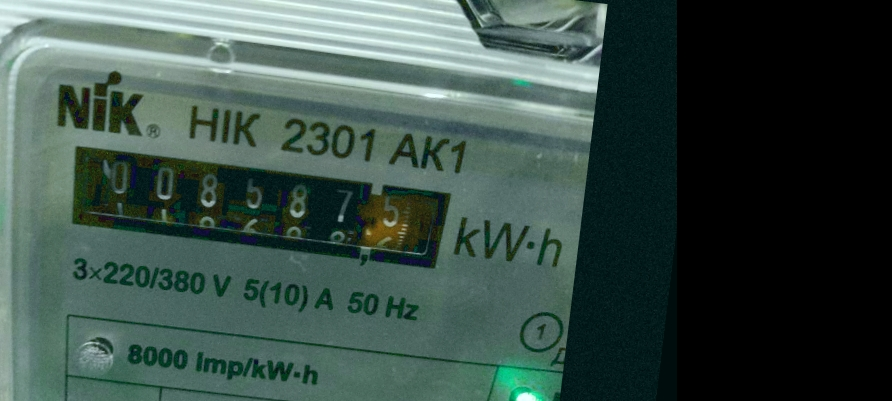0: (150, 160, 178, 202)
1: (104, 154, 133, 198)
5: (377, 188, 406, 231), (240, 172, 268, 212)
7: (328, 183, 356, 227)
8: (193, 167, 223, 211), (284, 178, 310, 221)
screen: (43, 123, 472, 291)
